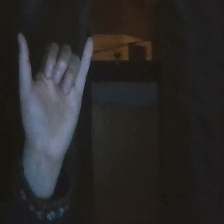Y: (10, 25, 104, 167)
